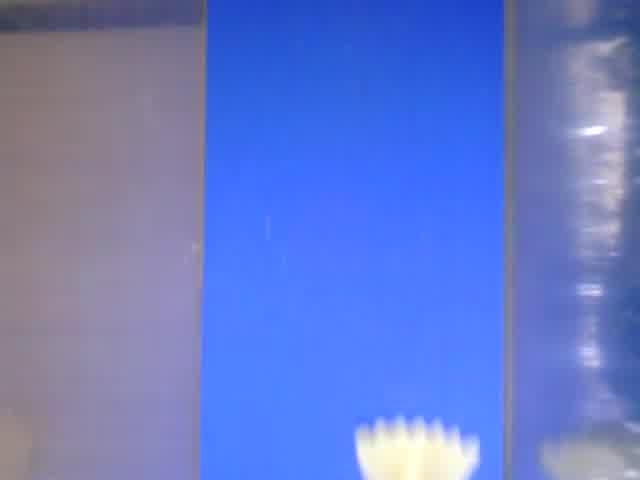farfalle: (353, 419, 480, 480)
